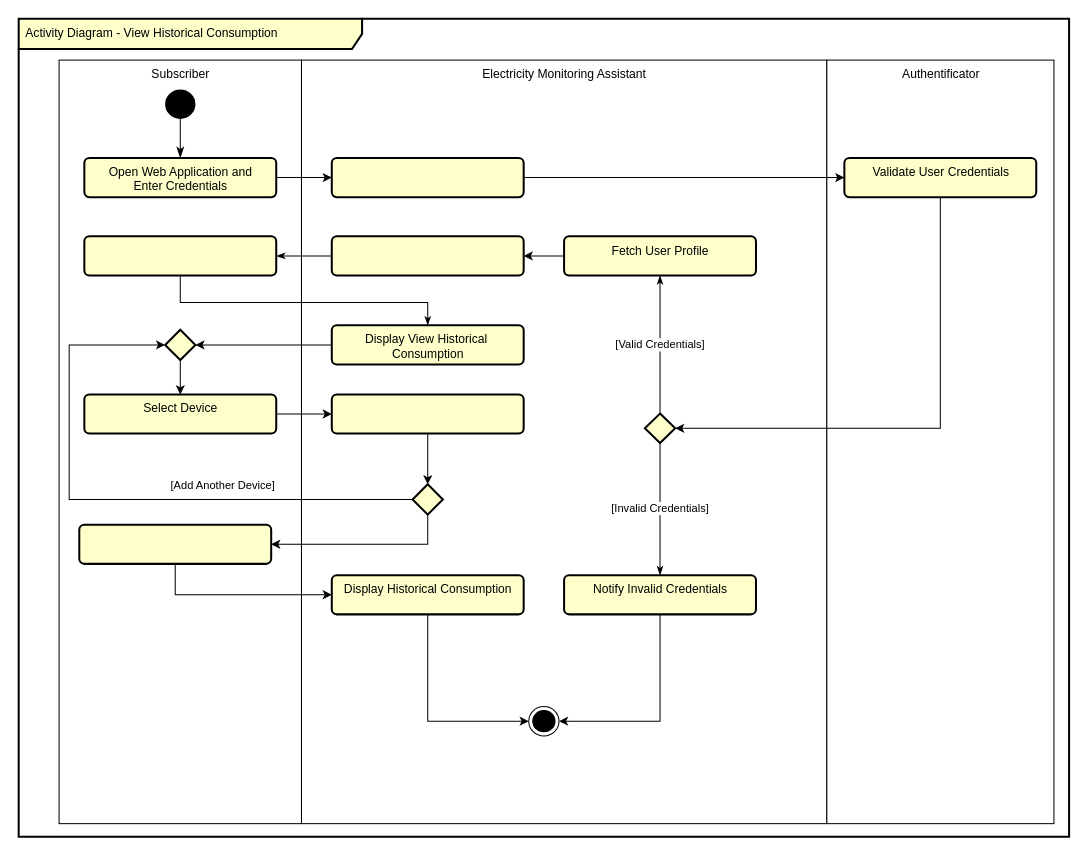
Some shapes in this 1087 by 854 pixel diagram are drawn without their labels. Each missing label, with the centre of its shape:
"Add Device" goes at point 427,413.
"Display Main Control Panel" goes at point 427,255.
"Make credentials validations request" goes at point 427,177.
"Select Time Period" goes at point 175,543.
"Select View Historical Consumption" goes at point 180,255.
